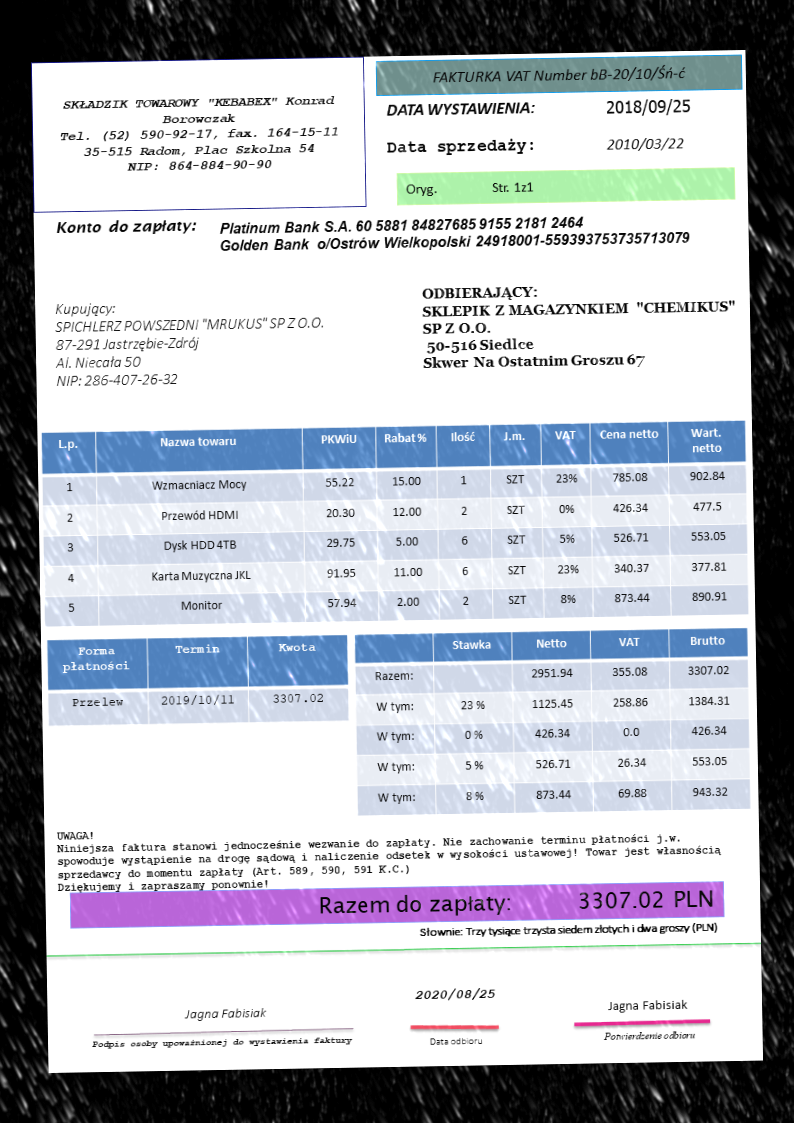Table: (39, 418, 750, 627), (354, 627, 751, 817), (45, 632, 350, 728)
TextBox: (54, 818, 722, 896), (420, 281, 737, 372), (51, 295, 325, 389), (59, 92, 342, 175), (216, 210, 691, 255), (316, 885, 715, 921), (417, 919, 719, 941), (429, 64, 689, 87), (89, 1033, 353, 1052), (384, 135, 537, 159), (53, 216, 198, 239), (384, 99, 538, 119), (403, 179, 536, 199), (603, 95, 693, 117), (601, 1027, 697, 1044), (605, 997, 688, 1014), (605, 136, 686, 152), (182, 1006, 267, 1021), (413, 987, 497, 1002), (427, 1034, 485, 1048)
